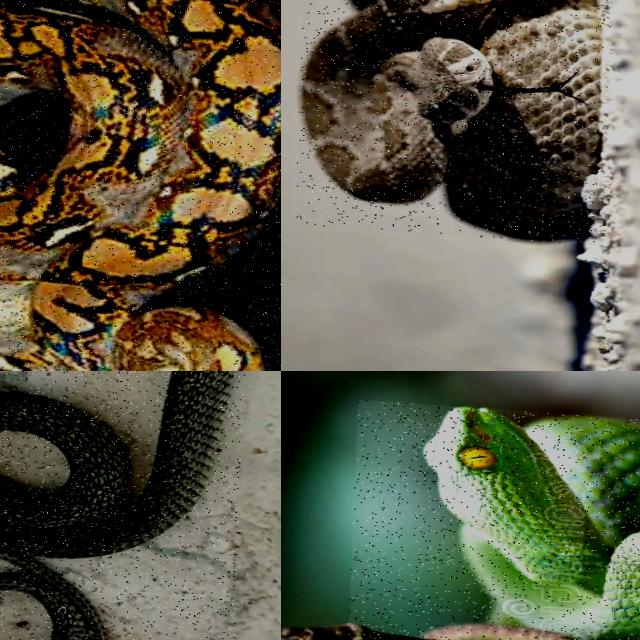Calloselasma rhodostoma: (300, 0, 601, 241)
Chrysopelea ornata: (0, 371, 234, 558)
Malayopython reticulatus: (0, 0, 280, 370)
Trimeresurus macrops: (425, 407, 639, 639)
